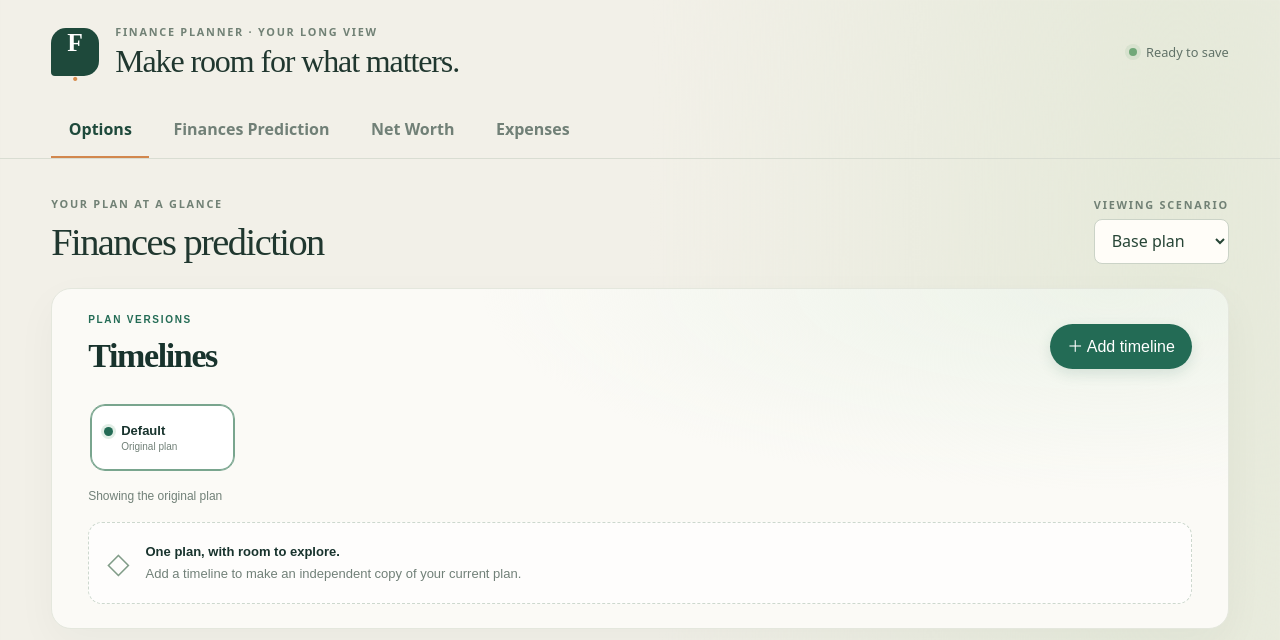
Test: App integration (Phase 5 GUI acceptance) › shows a zero-debit skipped purchase as unfunded without inventing a negative balance
The image size is (1280, 640).
Click the button "Finances Prediction".
click(251, 131)  # box [156, 104, 347, 158]
(page scrolled)
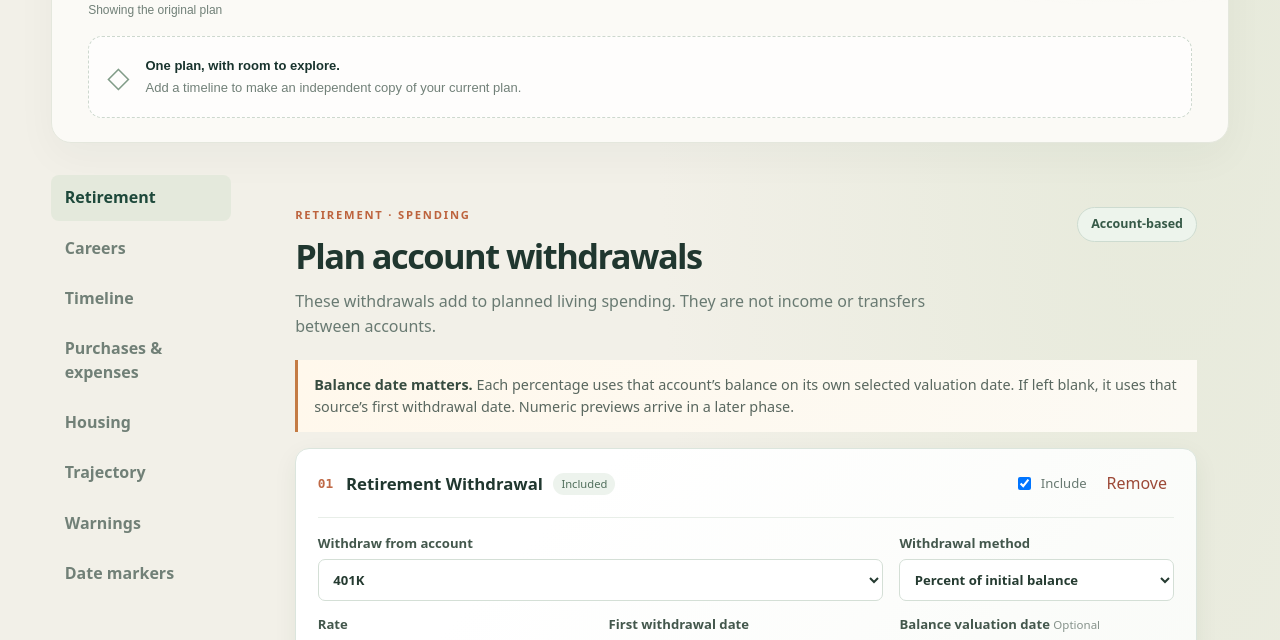
Click the button "Purchases & expenses".
click(141, 361)  # box [51, 326, 231, 395]
(page scrolled)
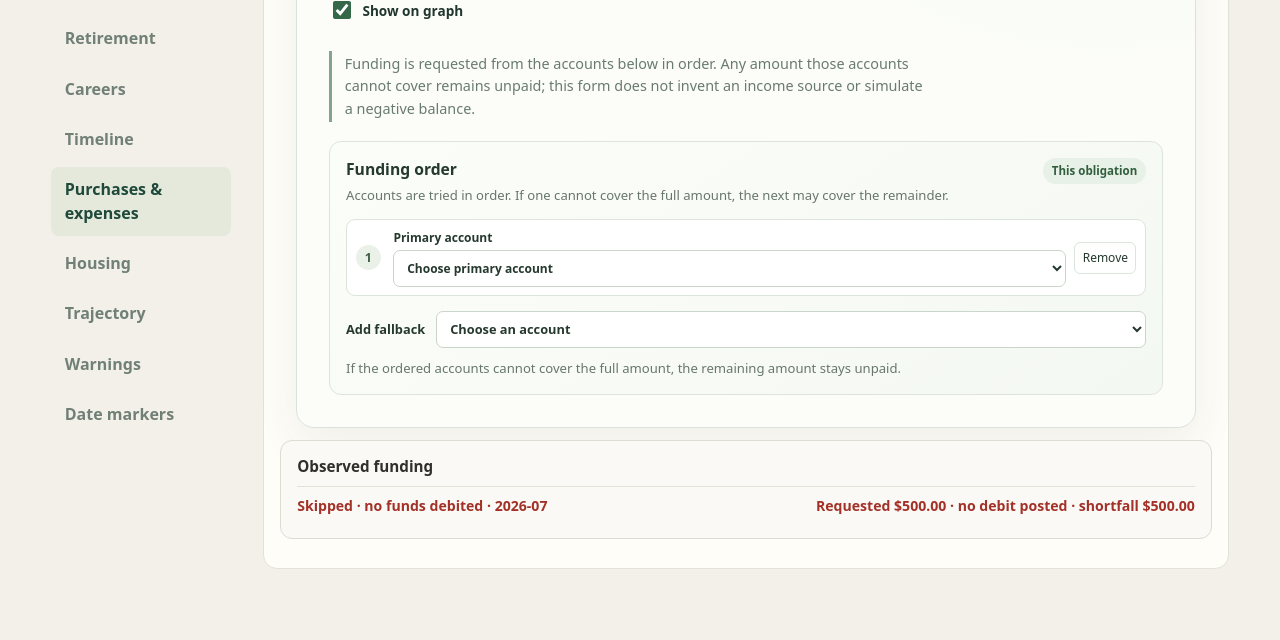
Click the text "Skipped · no funds debited · 2026-07".
click(422, 506)  # box [297, 496, 548, 516]
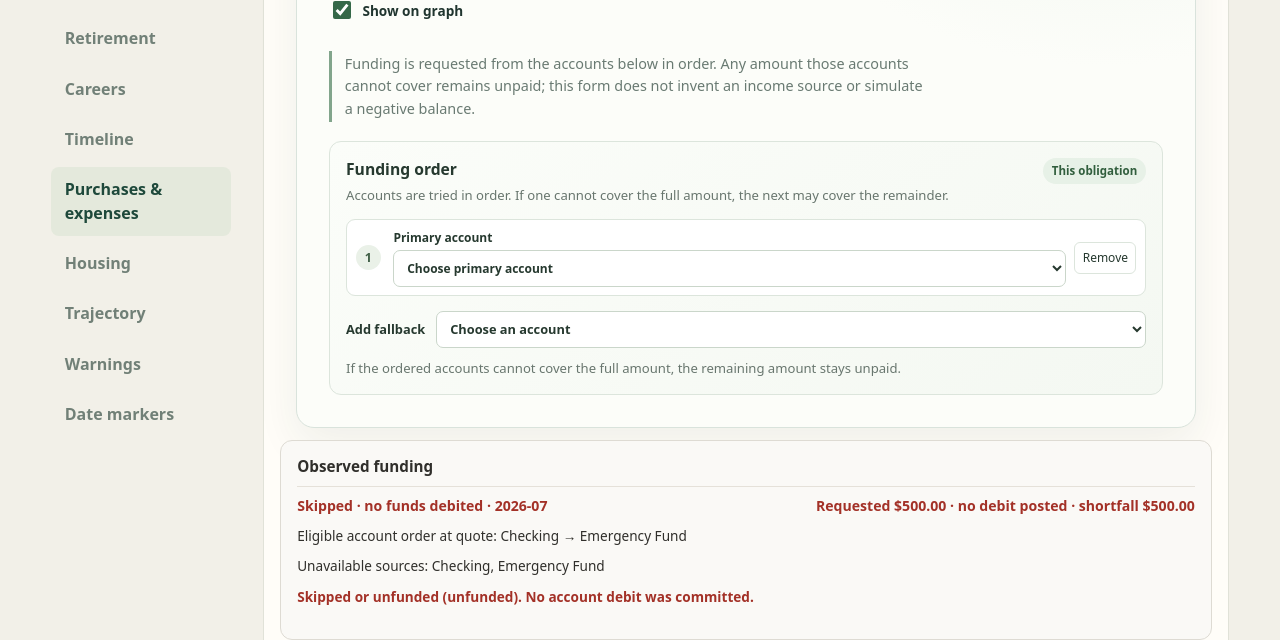
expect the text "Requested $500.00 · no debit posted · shortfall $500.00" is shown: met, box [816, 496, 1195, 516]
expect the text "Skipped or unfunded" is shown: met, box [297, 587, 447, 606]
expect the text "No account debit was committed" is shown: met, box [513, 587, 754, 606]
